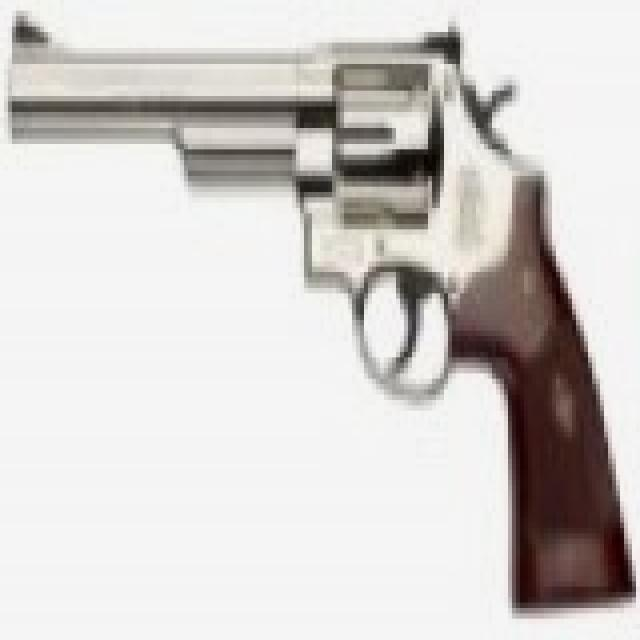pistol: (20, 11, 640, 608)
